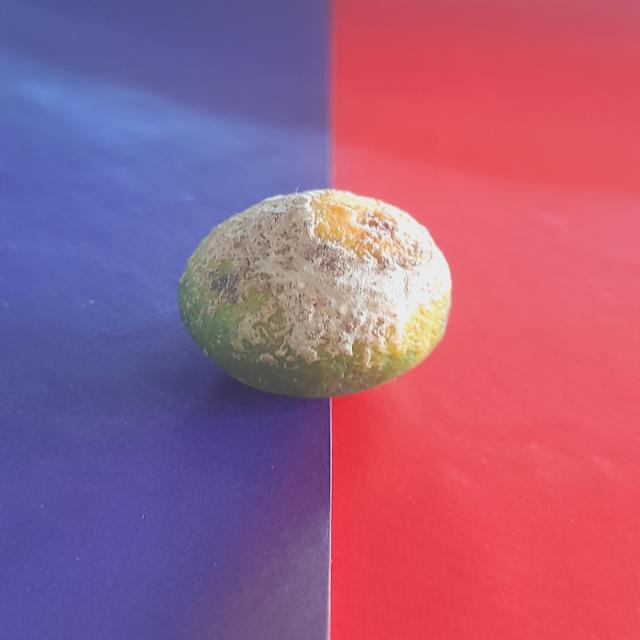thrips: (165, 192, 472, 408)
